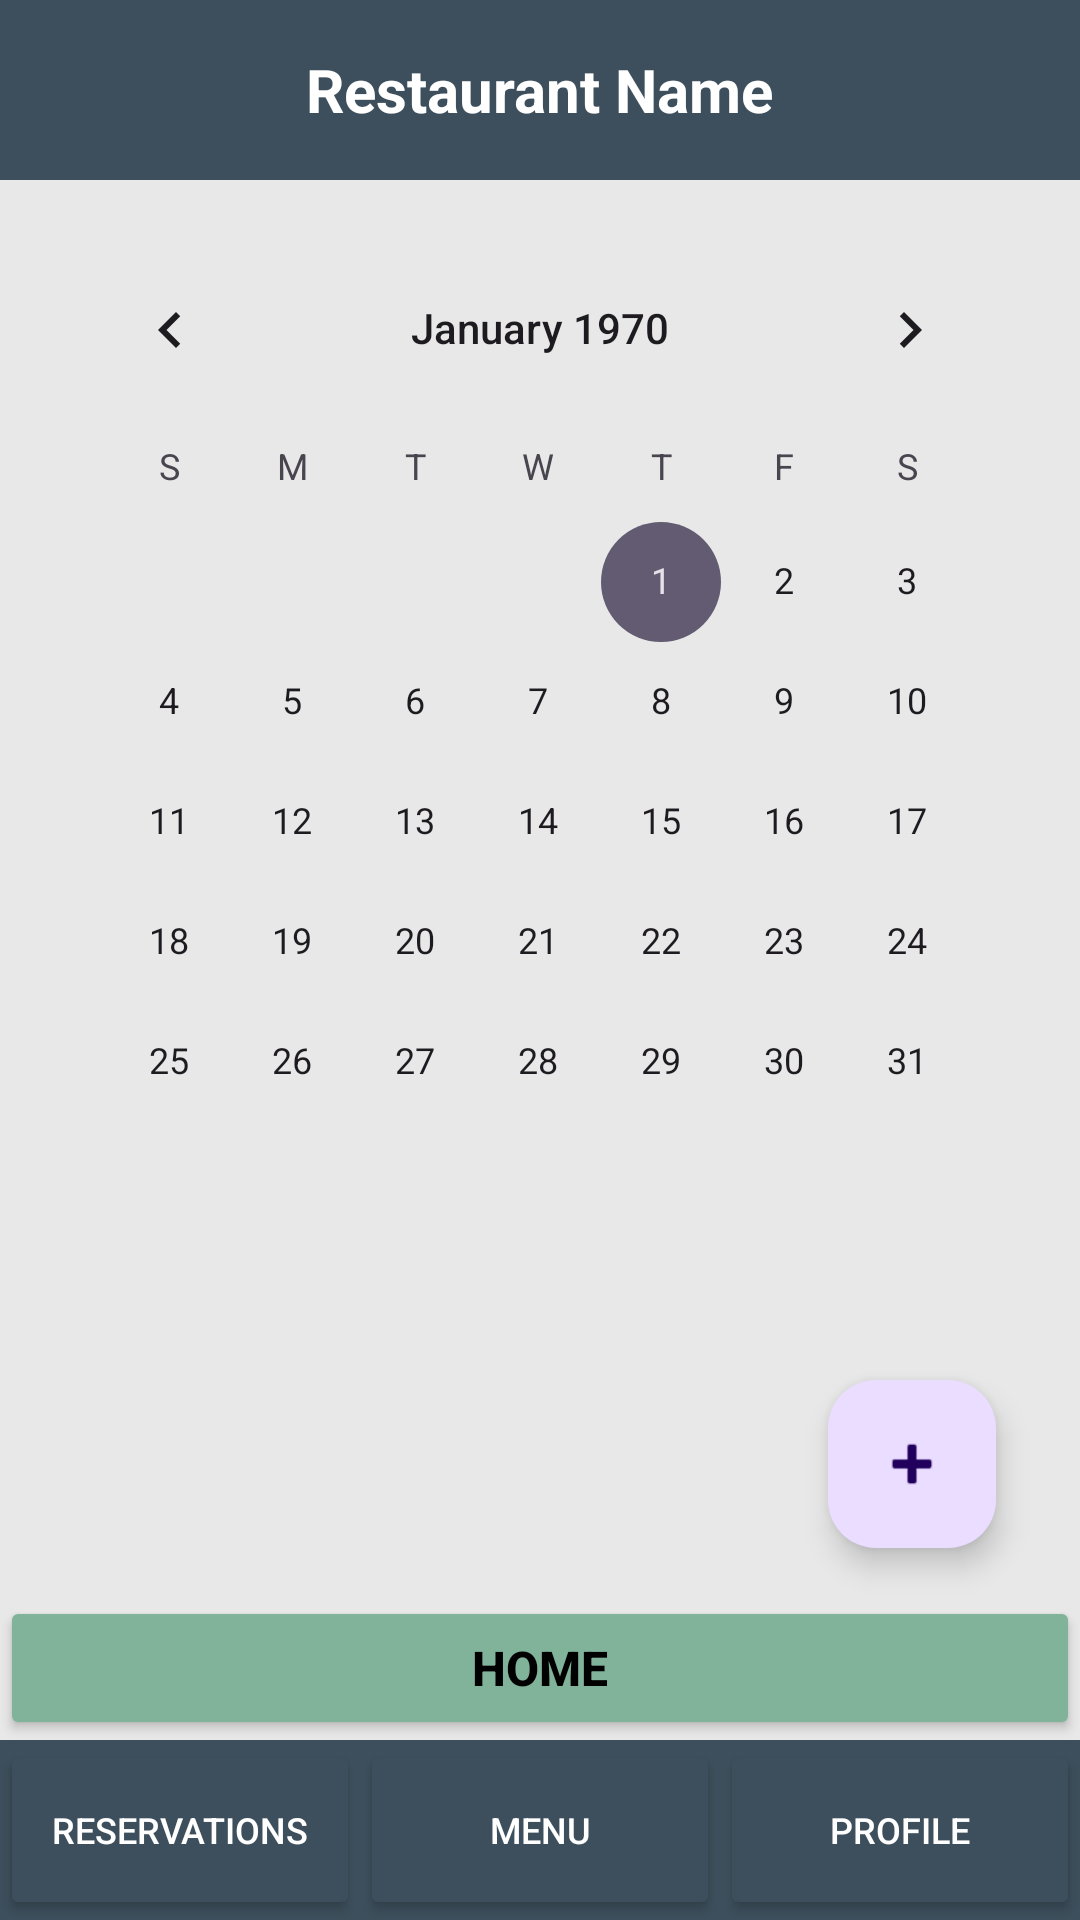

Where to tap for icons on this 1080*1920 app screen, as point (x, y):
add: point (912, 1464)
